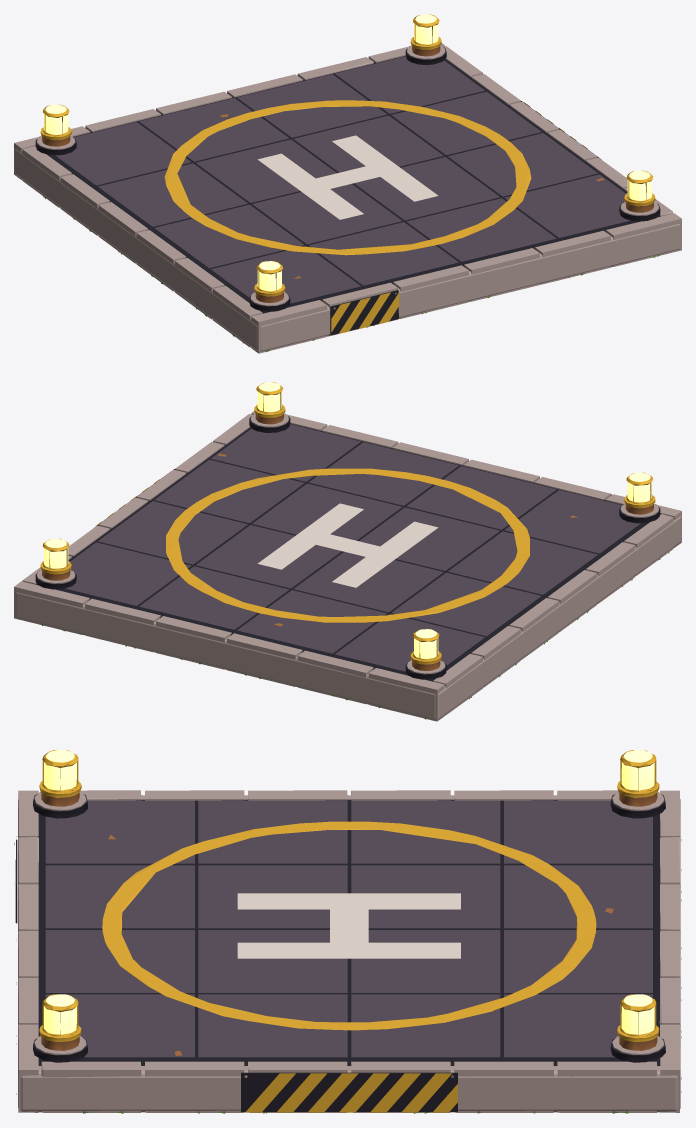
Rendered from bld.helipad.lod1.glb.
3 views of the same model, one above another, from view 1: azimuth 30°, elevation 25°; view 2: azimuth 150°, elevation 25°; view 3: azimuth 270°, elevation 25° (orthographic). The views are drawn at different scales.
Parts seen in each view (by area): view 1: body, lamp_1, lamp_0, lamp_3, lamp_2; view 2: body, lamp_0, lamp_3, lamp_2, lamp_1; view 3: body, lamp_2, lamp_1, lamp_3, lamp_0.
Boxes of the visible parts, <box> form: body: <box>14,43,681,353</box>; lamp_1: <box>619,170,660,221</box>; lamp_0: <box>249,261,290,311</box>; lamp_3: <box>35,104,76,155</box>; lamp_2: <box>405,14,446,64</box>; body: <box>14,411,681,721</box>; lamp_0: <box>619,472,660,523</box>; lamp_3: <box>405,629,446,679</box>; lamp_2: <box>35,538,76,589</box>; lamp_1: <box>249,382,290,432</box>; body: <box>14,790,681,1113</box>; lamp_2: <box>610,994,665,1062</box>; lamp_1: <box>33,994,87,1062</box>; lamp_3: <box>610,750,665,818</box>; lamp_0: <box>33,750,87,818</box>.
Bounding box in the file's own units: 10.06 × 1.6 × 10.06.
